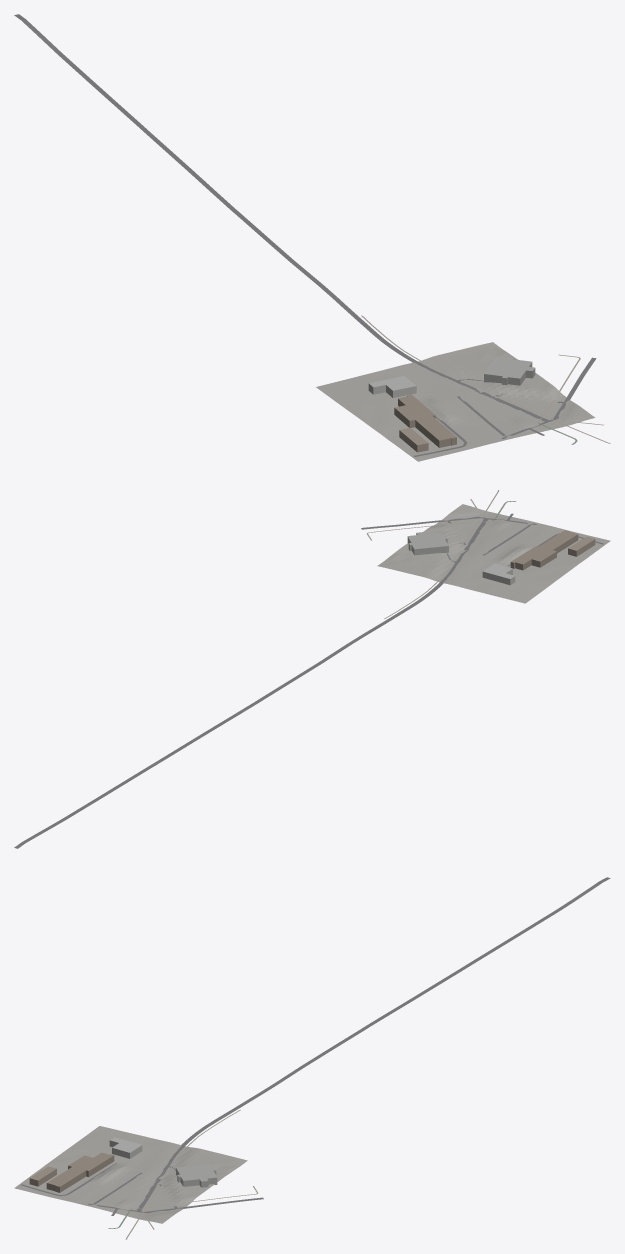
File: tile_2_5.glb
3 renders of one model, top to bottom at view 1: azimuth 30°, elevation 25°; view 2: azimuth 150°, elevation 25°; view 3: azimuth 330°, elevation 25°, orthographic. The views are drawn at different scales.
Parts seen in each view (by area): view 1: terrain, roads, buildings; view 2: terrain, roads, buildings; view 3: terrain, roads, buildings.
Part boxes in pixels (x1,y1,x2,y2): terrain: [316, 342, 595, 461]; roads: [14, 14, 610, 456]; buildings: [368, 357, 535, 452]; terrain: [377, 504, 610, 603]; roads: [14, 490, 603, 848]; buildings: [407, 530, 595, 585]; terrain: [14, 1126, 247, 1223]; roads: [21, 877, 610, 1239]; buildings: [29, 1137, 217, 1192].
Size of the model in its own units: 345 by 14.91 by 1465.
